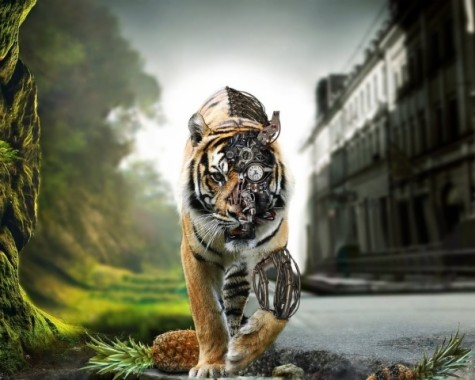Tigrew: (144, 68, 325, 370)
